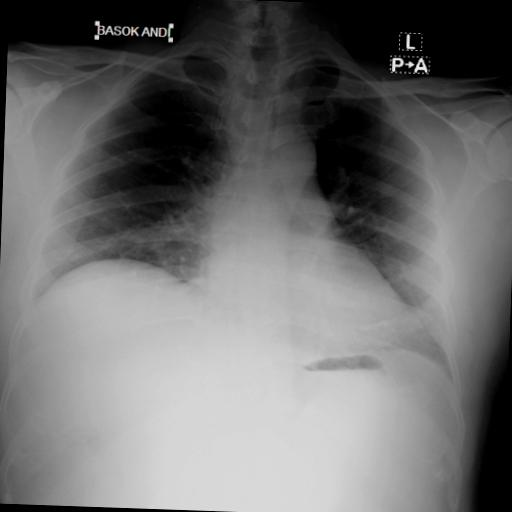kardiomegali: (16, 16, 470, 395)
